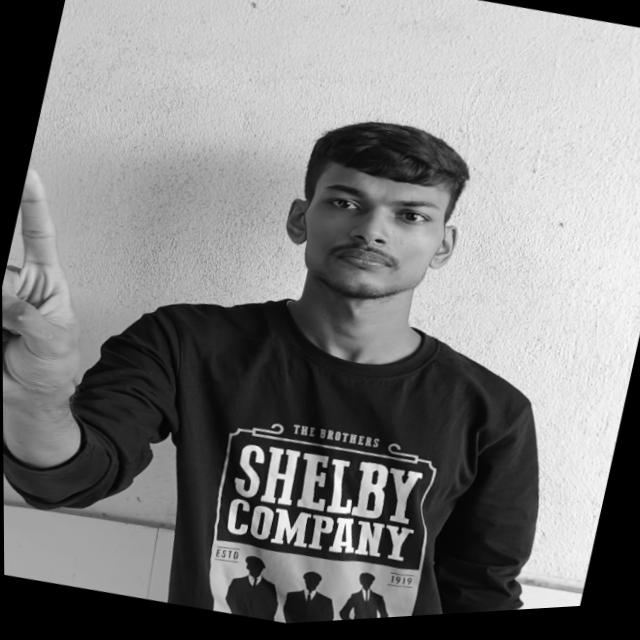Question: (1, 147, 103, 397)
